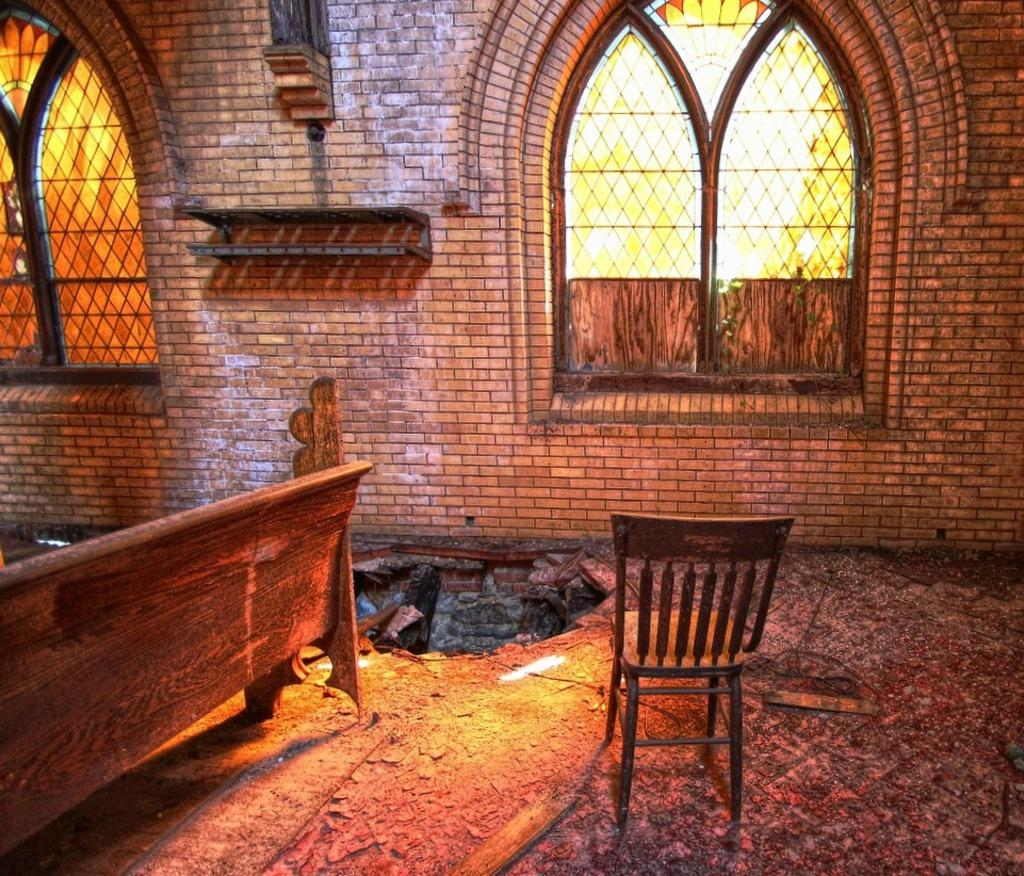Chair: (603, 511, 796, 827)
